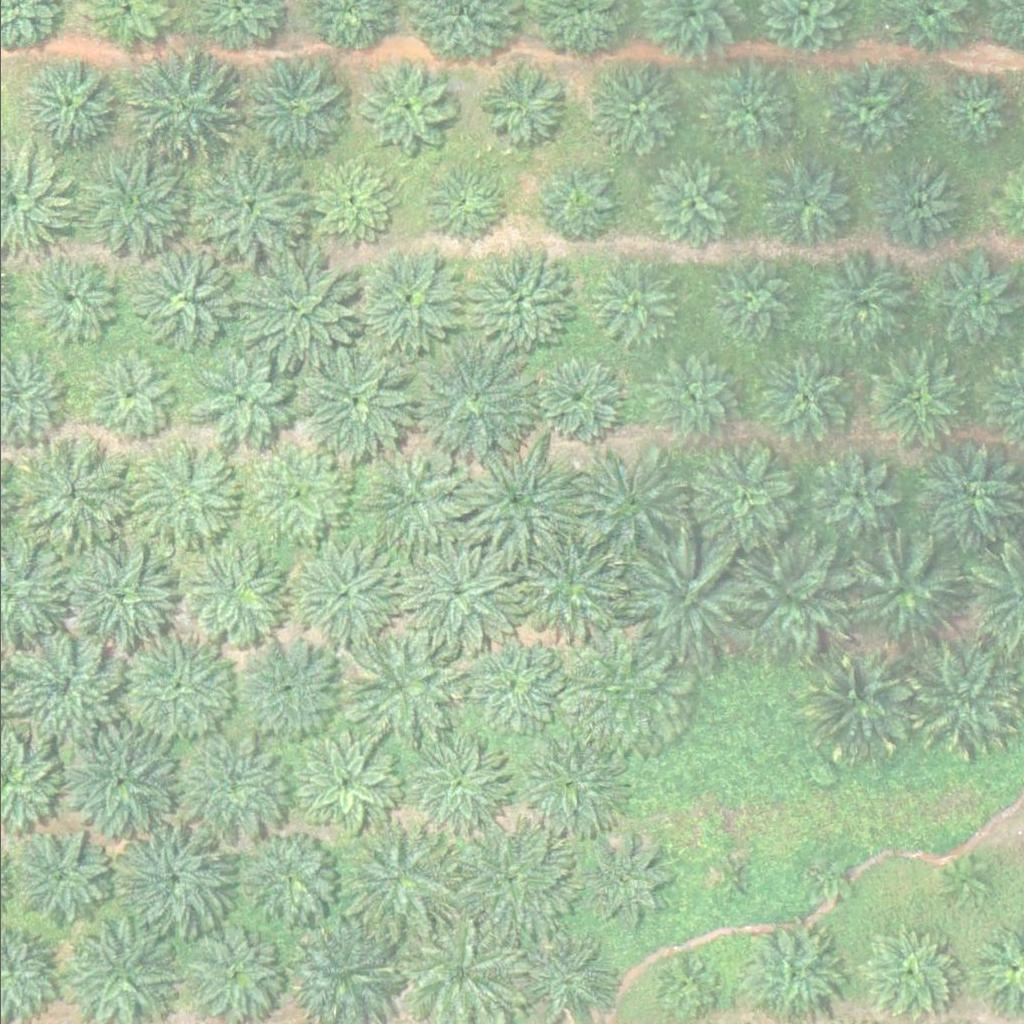Kelapa_Sawit: (567, 634, 681, 747), (735, 546, 849, 659), (628, 546, 742, 659), (235, 54, 349, 167), (122, 46, 236, 159), (14, 52, 127, 165), (463, 243, 576, 356), (347, 244, 460, 357), (414, 347, 527, 460), (296, 345, 409, 458), (124, 441, 237, 554), (15, 433, 128, 546), (514, 526, 627, 639), (452, 629, 565, 742), (345, 633, 458, 746), (231, 630, 344, 743), (177, 733, 290, 846), (67, 725, 180, 838), (851, 531, 965, 643), (190, 152, 304, 264), (78, 149, 192, 261), (10, 246, 124, 358), (519, 724, 633, 836), (404, 728, 518, 840), (452, 823, 566, 935), (344, 820, 458, 932), (808, 649, 921, 761), (565, 825, 678, 937), (685, 442, 798, 554), (571, 449, 684, 561), (241, 253, 354, 365), (128, 247, 241, 359), (456, 444, 569, 556), (354, 446, 467, 558), (395, 535, 508, 647), (284, 536, 397, 648), (60, 541, 173, 653), (117, 629, 230, 741), (5, 630, 118, 742), (124, 821, 237, 933), (863, 923, 964, 1023), (756, 350, 857, 450), (811, 251, 912, 351), (868, 155, 969, 255), (756, 155, 857, 255), (699, 60, 800, 160), (586, 61, 687, 161), (191, 346, 292, 446), (245, 442, 346, 542), (185, 542, 286, 642), (298, 732, 399, 832), (7, 827, 108, 927), (865, 347, 965, 447), (923, 248, 1023, 348), (354, 56, 454, 156), (242, 828, 342, 928), (648, 352, 736, 440), (531, 357, 619, 445), (706, 254, 794, 342), (475, 63, 563, 151), (421, 161, 509, 249), (307, 158, 395, 246), (588, 261, 677, 348), (648, 161, 737, 248), (813, 452, 901, 539), (827, 67, 915, 154), (533, 159, 621, 246), (85, 355, 173, 442), (939, 78, 1014, 153), (654, 955, 717, 1018), (937, 859, 988, 909), (805, 861, 843, 898), (714, 857, 752, 894)
